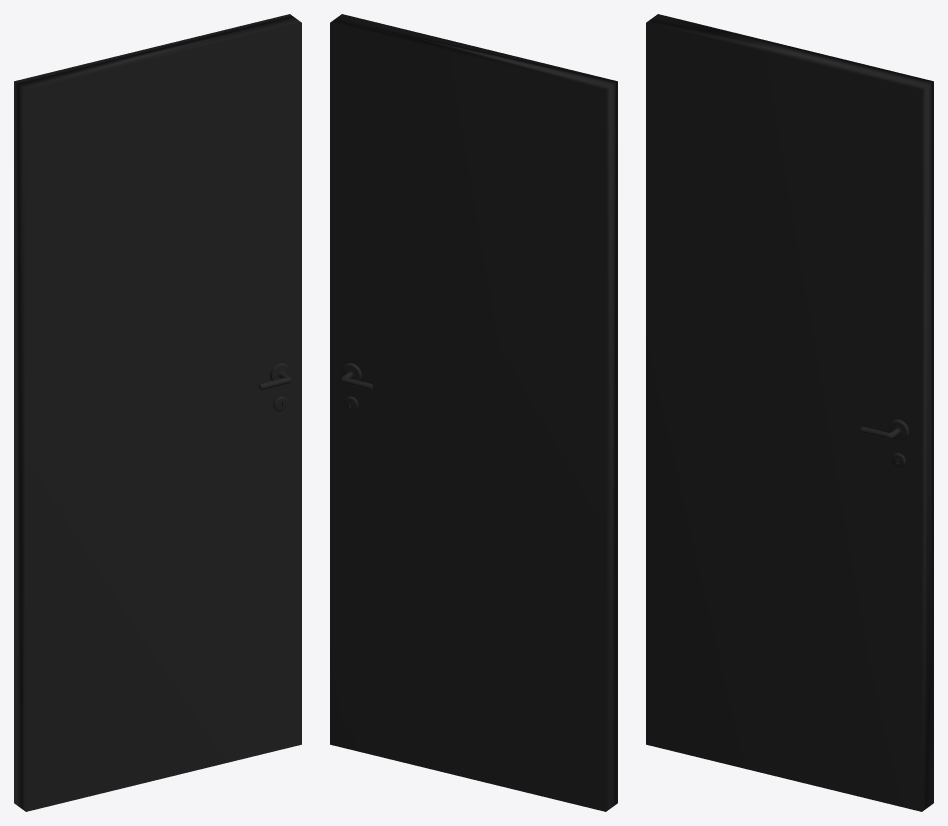
File: 1a01450f-8dee-445f-ae06-bd248ca8e5b9.glb
3 views of the same model, side by side, from view 1: azimuth 30°, elevation 25°; view 2: azimuth 150°, elevation 25°; view 3: azimuth 330°, elevation 25° (orthographic).
Parts seen in each view (by area): view 1: Door.023; view 2: Door.023; view 3: Door.023.
Part boxes in pixels (x1=…): Door.023: x1=14, y1=14, x2=301, y2=811; Door.023: x1=330, y1=14, x2=617, y2=811; Door.023: x1=646, y1=14, x2=933, y2=811.
Size of what is drawn, in the model's own units: 0.8628 by 2.16 by 0.1816.
2 materials, 2 textured.
